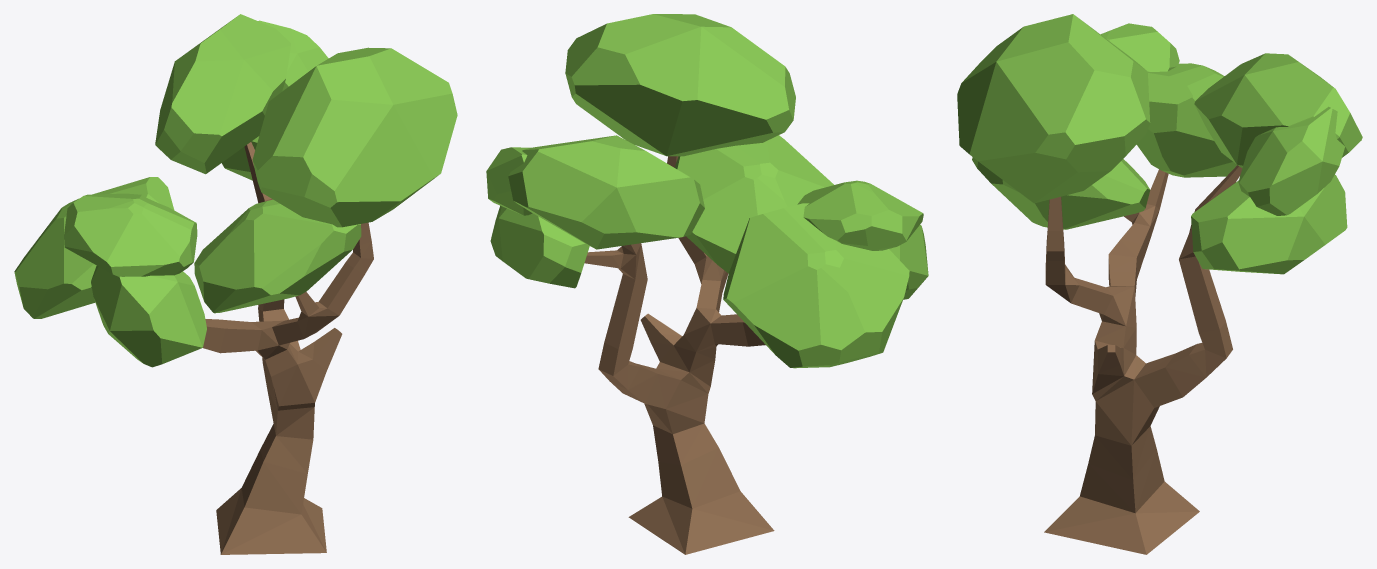
Rendered from tree08.fbx.
3 views of the same model, side by side, from view 1: azimuth 30°, elevation 25°; view 2: azimuth 150°, elevation 25°; view 3: azimuth 270°, elevation 25° (orthographic). The views are drawn at different scales.
Parts seen in each view (by area): view 1: tree08_LOD0; view 2: tree08_LOD0; view 3: tree08_LOD0.
Boxes of the visible parts, x1,y1,x2,y2 form: tree08_LOD0: (14, 14, 457, 554); tree08_LOD0: (486, 14, 928, 554); tree08_LOD0: (957, 14, 1362, 554).
Size of what is drawn, in the model's own units: 531 by 650 by 460.
